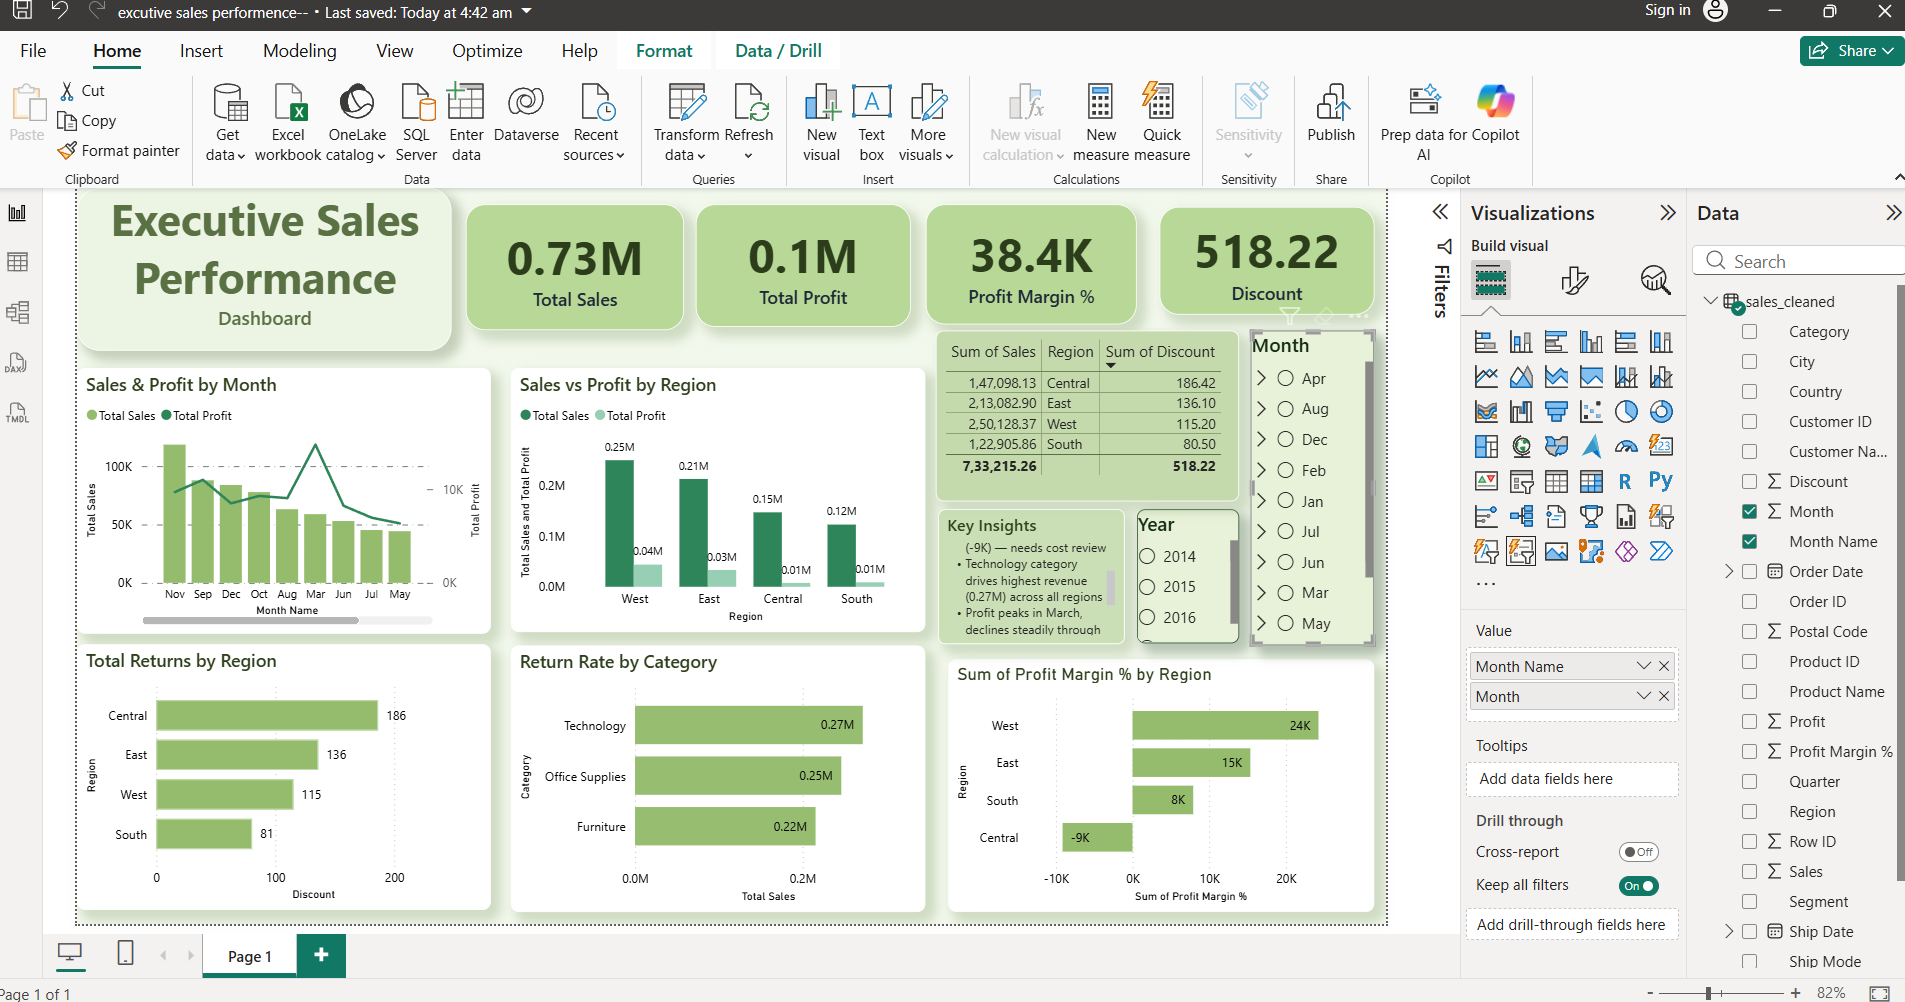

The dashboard page shown, as its layout file describes it:
{"tool":"powerbi","page":{"name":"Page 1","canvas":[1280,720],"ordinal":0},"visuals":[{"type":"textbox","title":"Executive Sales Performance","box":[0,0,366,159],"z":0},{"type":"card","title":"Total Sales","fields":{"Values":["Sum(sales_cleaned.Sales)"]},"box":[380.3,15.9,214,123.5],"z":1000},{"type":"card","title":"Total Profit","fields":{"Values":["Sum(sales_cleaned.Profit)"]},"box":[605.3,15.9,210.3,119.8],"z":2000},{"type":"card","title":"Profit Margin","fields":{"Values":["Sum(sales_cleaned.Profit Margin %)"]},"box":[830.3,15.9,206.7,117.4],"z":3000},{"type":"card","title":"Return Rate","fields":{"Values":["Sum(sales_cleaned.Discount)"]},"box":[1058.6,18.7,210.2,105.7],"z":4000},{"type":"lineClusteredColumnComboChart","title":"Sales & Profit by Month","fields":{"Category":["sales_cleaned.Month Name"],"Y":["Sum(sales_cleaned.Sales)"],"Y2":["Sum(sales_cleaned.Profit)"]},"box":[0,176.7,404.9,260.2],"z":5000},{"type":"clusteredColumnChart","title":"Sales vs Profit by Region","fields":{"Category":["sales_cleaned.Region"],"Y":["Sum(sales_cleaned.Sales)","Sum(sales_cleaned.Profit)"]},"box":[424.3,176.1,406,258],"z":6000},{"type":"clusteredBarChart","fields":{"Category":["sales_cleaned.Region"],"Y":["Sum(sales_cleaned.Profit Margin %)"]},"box":[852.3,461,417,247],"z":7000},{"type":"clusteredBarChart","title":"Return Rate by Category","fields":{"Category":["sales_cleaned.Category"],"Y":["Sum(sales_cleaned.Sales)"]},"box":[424.3,447.6,406,260.5],"z":8000},{"type":"listSlicer","fields":{"Values":["sales_cleaned.Year"]},"box":[1037,314.3,100.3,130.8],"z":9000},{"type":"clusteredBarChart","title":"Total Returns by Region","fields":{"Y":["Sum(sales_cleaned.Discount)"],"Category":["sales_cleaned.Region"]},"box":[0,446.6,404.9,260.2],"z":10000},{"type":"tableEx","fields":{"Values":["Sum(sales_cleaned.Sales)","sales_cleaned.Region","Sum(sales_cleaned.Discount)"]},"box":[840.1,139.4,297.1,167.5],"z":11000},{"type":"textbox","title":"Key Insights","box":[842.5,314.3,182.2,132.1],"z":12000},{"type":"listSlicer","title":"Month ","fields":{"Values":["sales_cleaned.Month Name","sales_cleaned.Month"]},"box":[1148.2,139.4,121.1,308.2],"z":12001}]}

Visuals, with their boxes on the page's 1280x720 design canvas (x1, y1, x2, y2). These are canvas units, not pixel positions in the 1905x1002 screenshot, which may show the page scaled, cropped or inside an application window:
"Executive Sales Performance" textbox: 0:0:366:159
"Total Sales" card: 380:16:594:139
"Total Profit" card: 605:16:816:136
"Profit Margin" card: 830:16:1037:133
"Return Rate" card: 1059:19:1269:124
"Sales & Profit by Month" lineClusteredColumnComboChart: 0:177:405:437
"Sales vs Profit by Region" clusteredColumnChart: 424:176:830:434
clusteredBarChart - sales_cleaned.Region x Sum(sales_cleaned.Profit Margin %): 852:461:1269:708
"Return Rate by Category" clusteredBarChart: 424:448:830:708
listSlicer - sales_cleaned.Year: 1037:314:1137:445
"Total Returns by Region" clusteredBarChart: 0:447:405:707
tableEx - Sum(sales_cleaned.Sales) x sales_cleaned.Region: 840:139:1137:307
"Key Insights" textbox: 842:314:1025:446
"Month " listSlicer: 1148:139:1269:448
